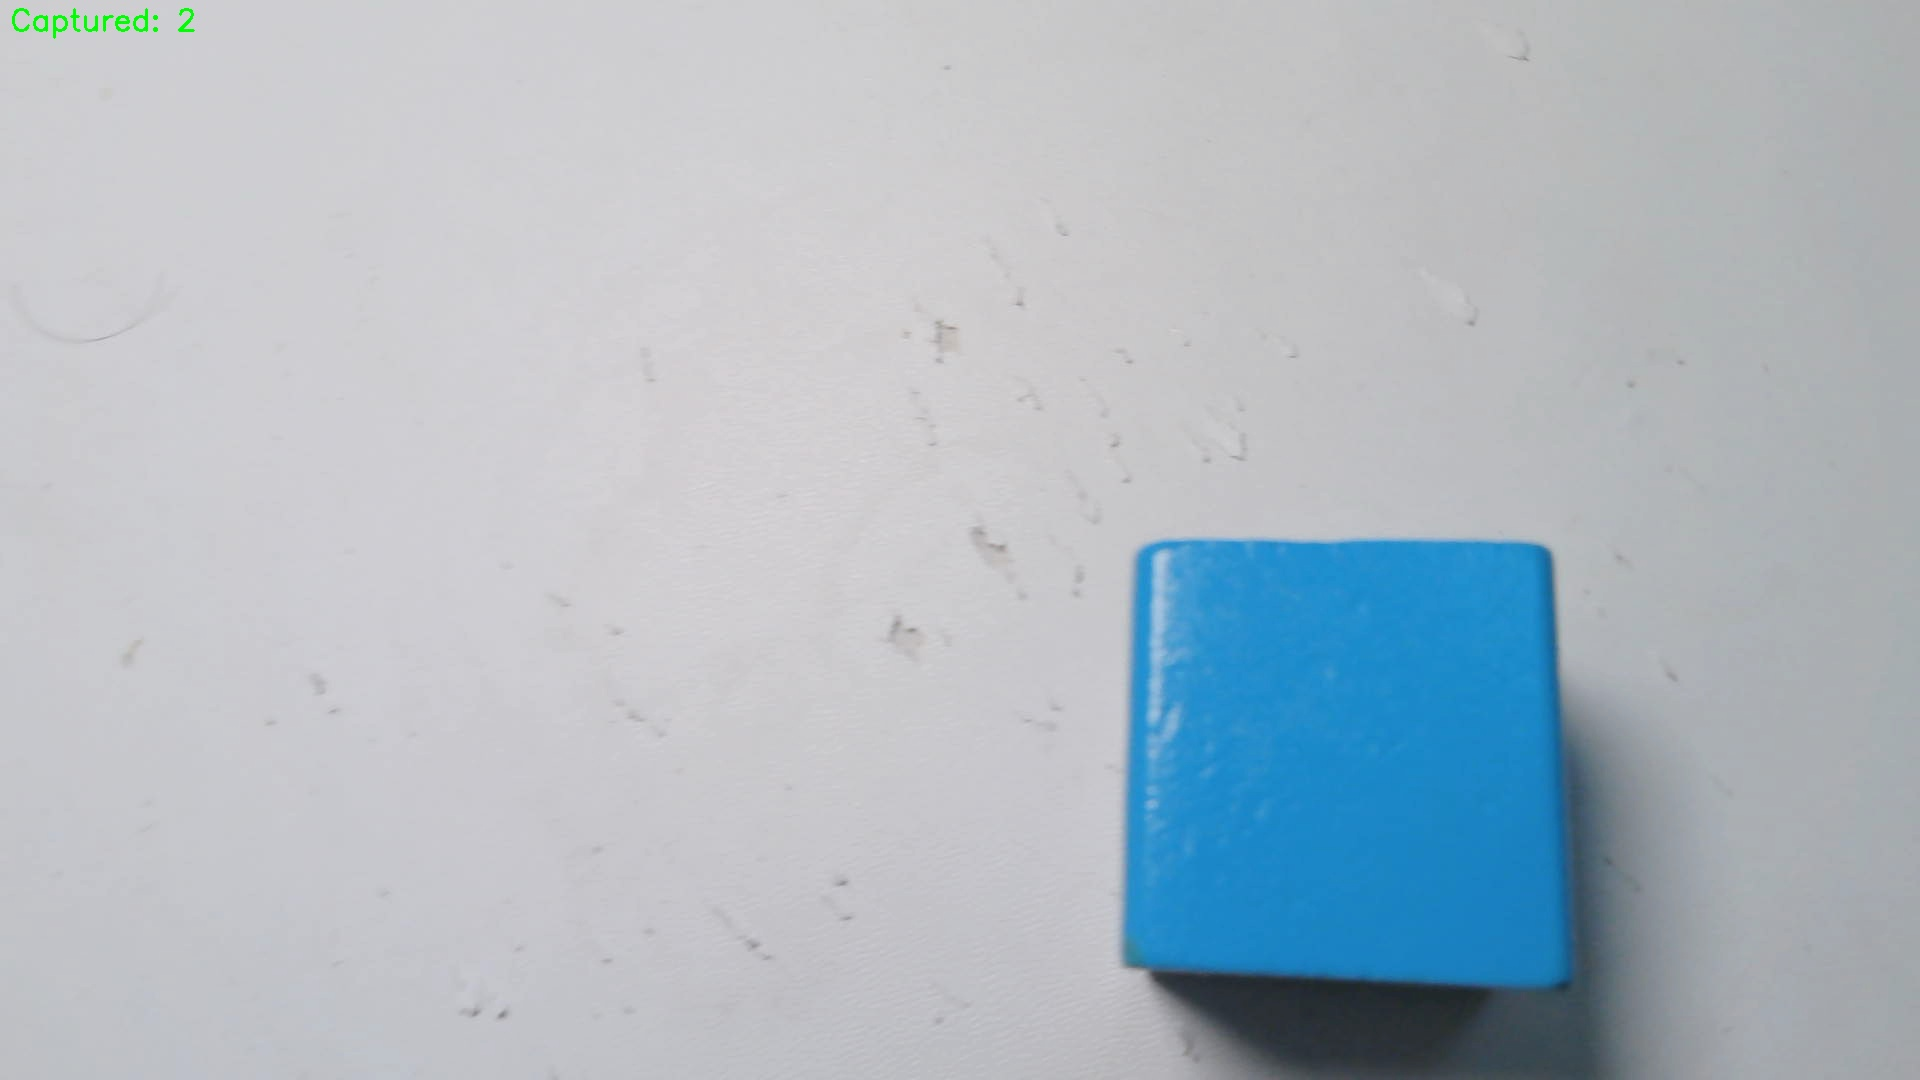blue: (1131, 537, 1576, 994)
